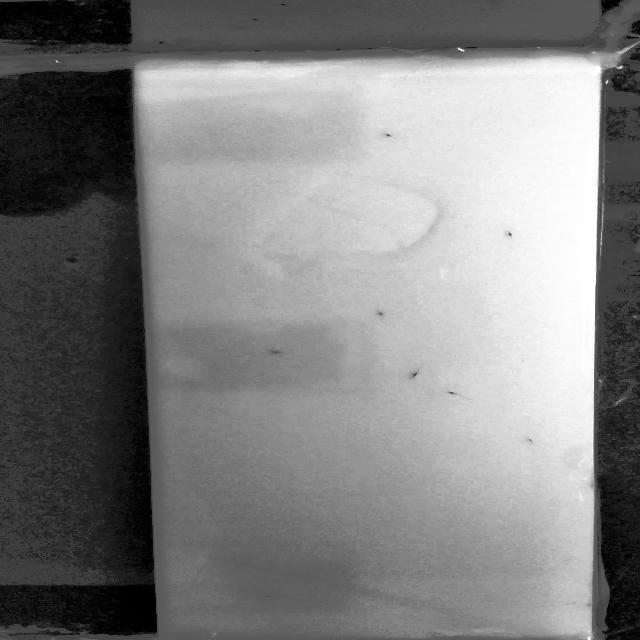shrimp: (493, 223, 532, 244), (371, 129, 409, 143), (400, 369, 430, 381), (258, 590, 282, 605), (442, 386, 462, 402), (265, 345, 287, 357), (374, 308, 393, 320)
